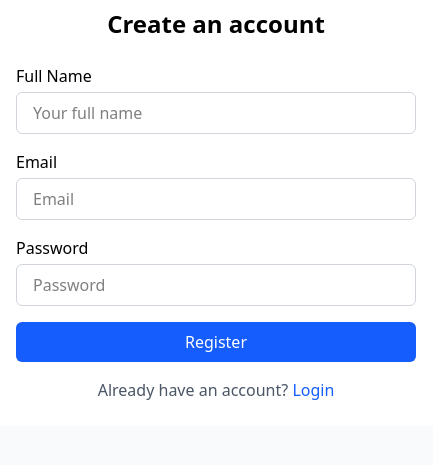
Test: RegisterView › shows error message when registration fails
Type "Full name" into the field with placeholder "Your full name". click: {"x": 216, "y": 113}
box: [16,92,416,134]
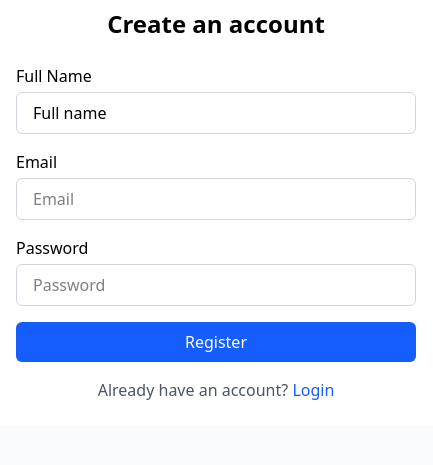
Type "wrongemail@example.com" into the field with placeholder "Email". click: {"x": 216, "y": 199}
box: [16,178,416,220]
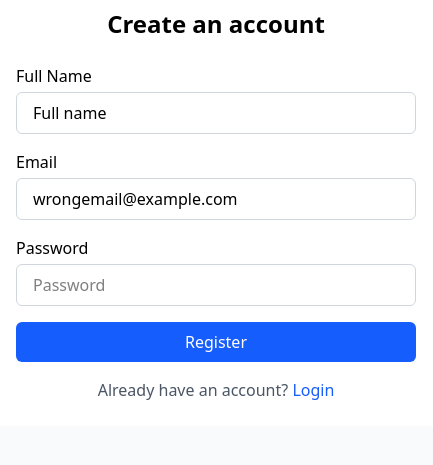
Type "wrongpass" into the password field with placeholder "Password". click: {"x": 216, "y": 285}
box: [16,264,416,306]
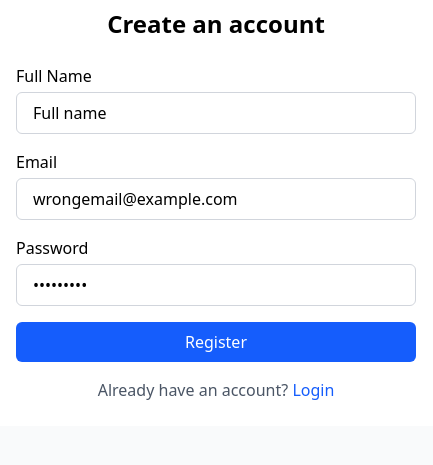
Submit the form, box [16,64,416,362]
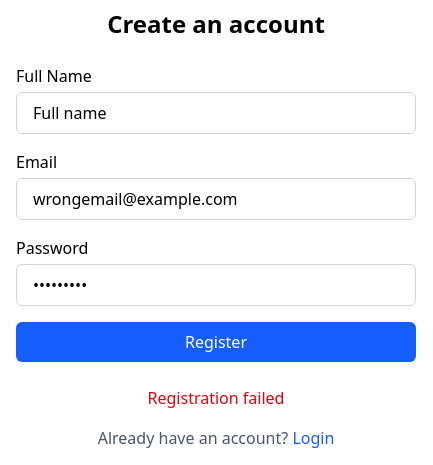
Result: the text "Registration failed" is shown at [148,387,284,409]
